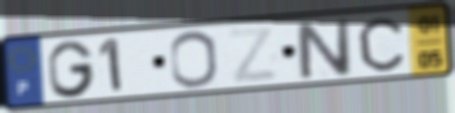1: (95, 36, 125, 94)
C: (355, 15, 407, 74)
G: (45, 38, 98, 100)
N: (292, 17, 355, 82)
O: (167, 29, 221, 90)
Z: (224, 23, 281, 86)
